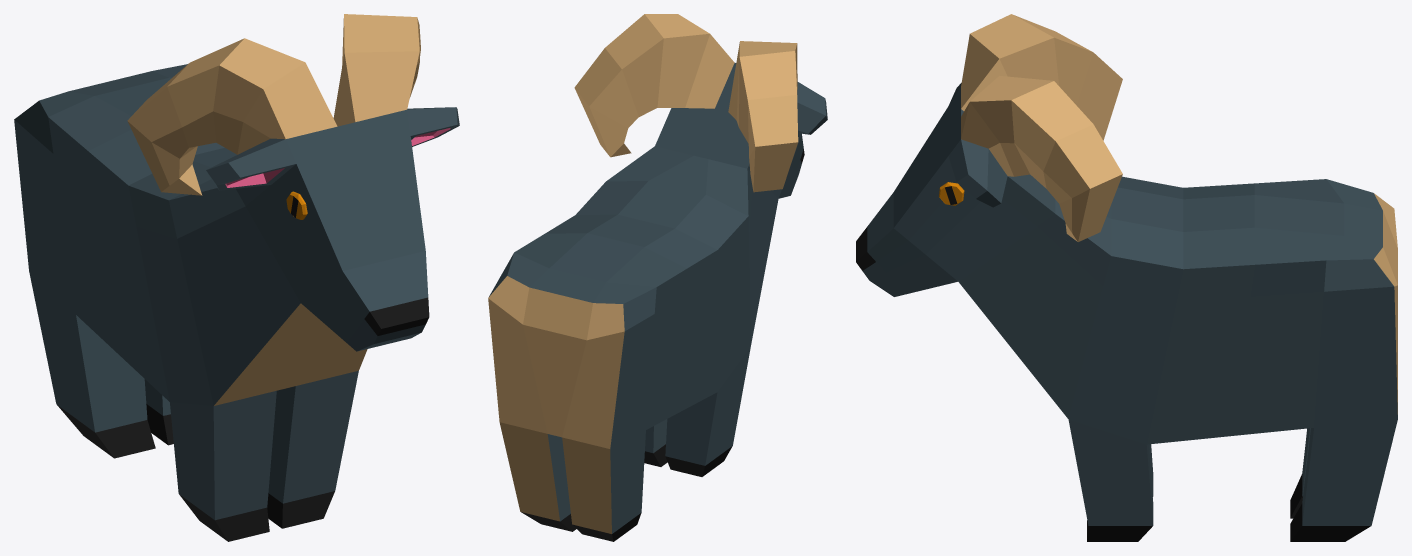
Rendered from Ram_01.fbx.
3 renders of one model, left to right at view 1: azimuth 30°, elevation 25°; view 2: azimuth 150°, elevation 25°; view 3: azimuth 270°, elevation 25°, orthographic. The views are drawn at different scales.
Parts seen in each view (by area): view 1: Ram_01; view 2: Ram_01; view 3: Ram_01.
Boxes of the visible parts, <box> form: Ram_01: <box>14,14,459,541</box>; Ram_01: <box>488,14,827,541</box>; Ram_01: <box>856,14,1397,541</box>.
Bounding box in the file's own units: 5.16 × 8.73 × 9.23.
